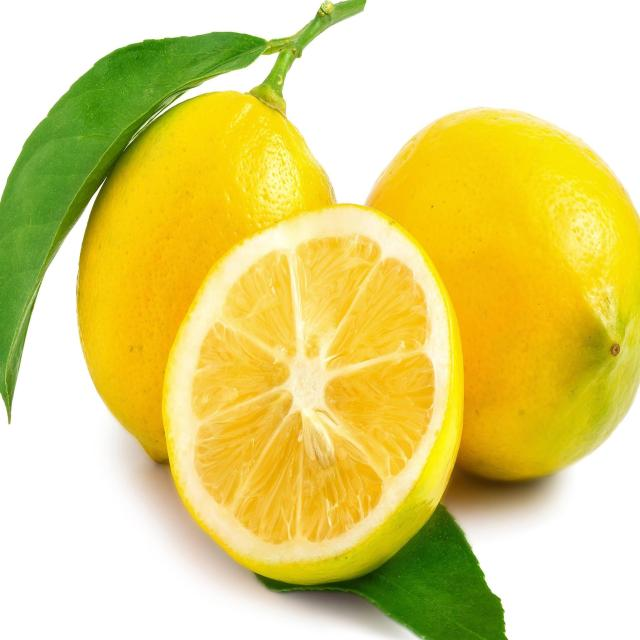lemon: (156, 195, 473, 593)
